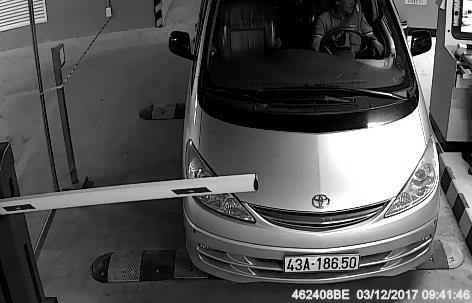License-plate: (281, 241, 368, 284)
